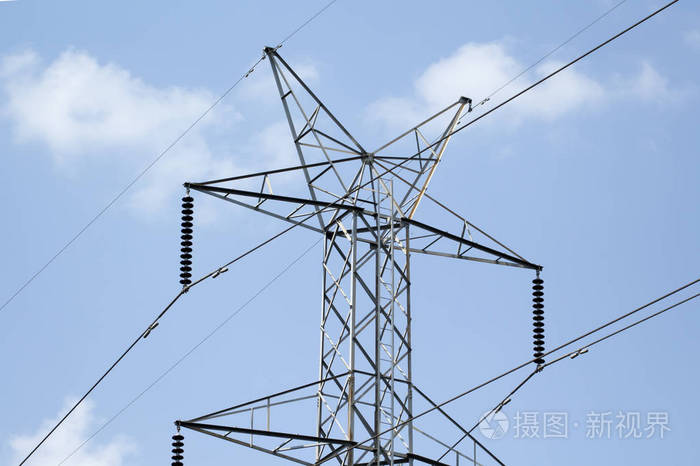insulator: (177, 196, 197, 286), (532, 276, 547, 367), (167, 434, 187, 466)
